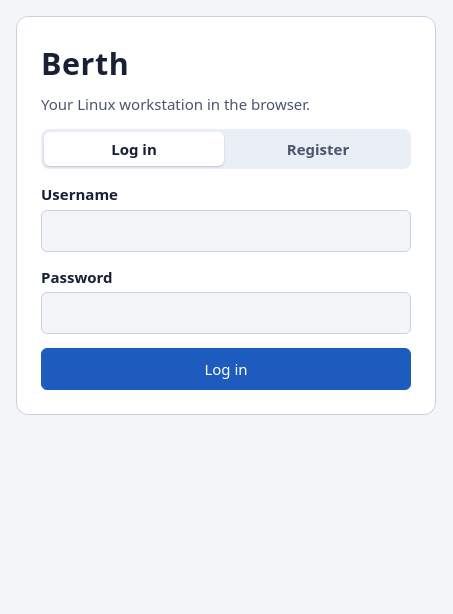
Test: register › blocks a bad username or short password before any request, with inline hints
The width and height of the screenshot is (453, 614).
Click the tab "Register" at (318, 149), box [228,132,408,166]
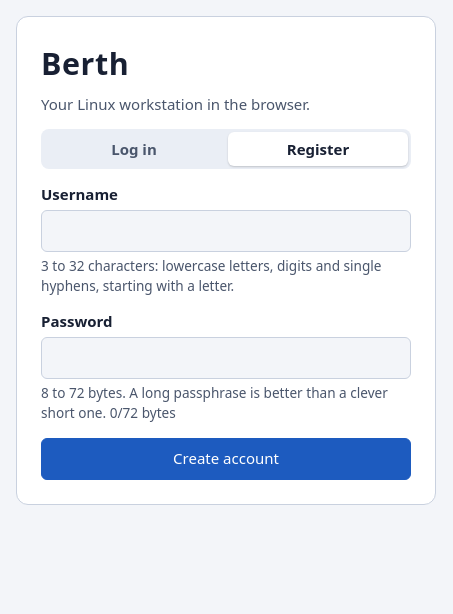
Type "Alice_1" into the field labelled "Username" at (226, 231), box [41,210,411,252]
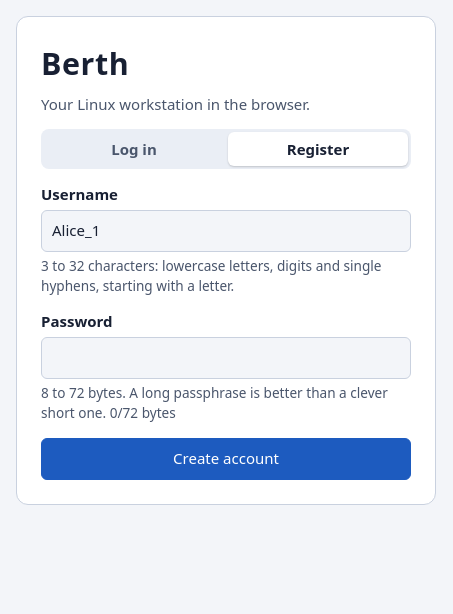
Type "short" into the password field labelled "Password" at (226, 358), box [41,337,411,379]
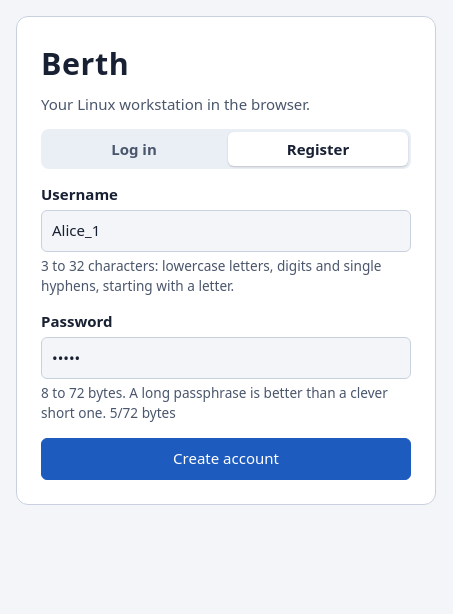
Submit the form labelled "Username", box [41,183,411,480]
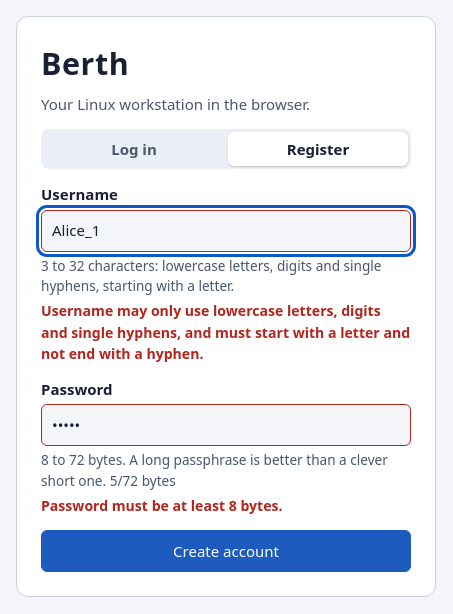
Now the text "lowercase letters, digits and single hyphens, and must start" is shown, box [41,301,410,363]
Now the text "Password must be at least 8 bytes." is shown, box [41,496,282,515]
